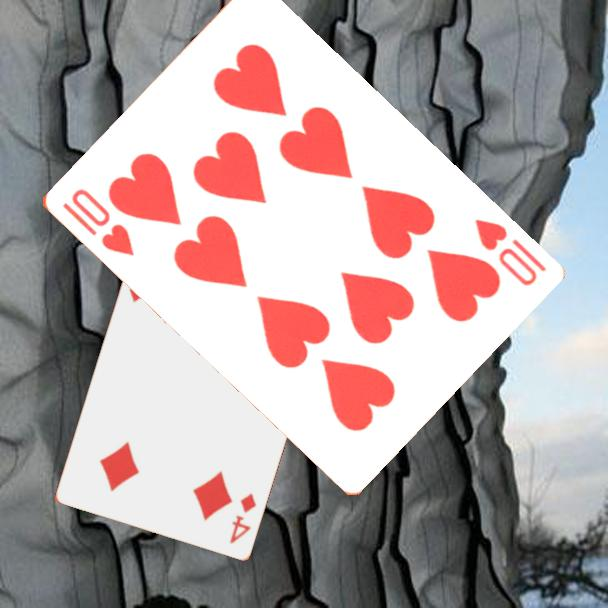d04: (226, 489, 259, 546)
h10: (58, 184, 137, 259), (470, 215, 549, 289)
